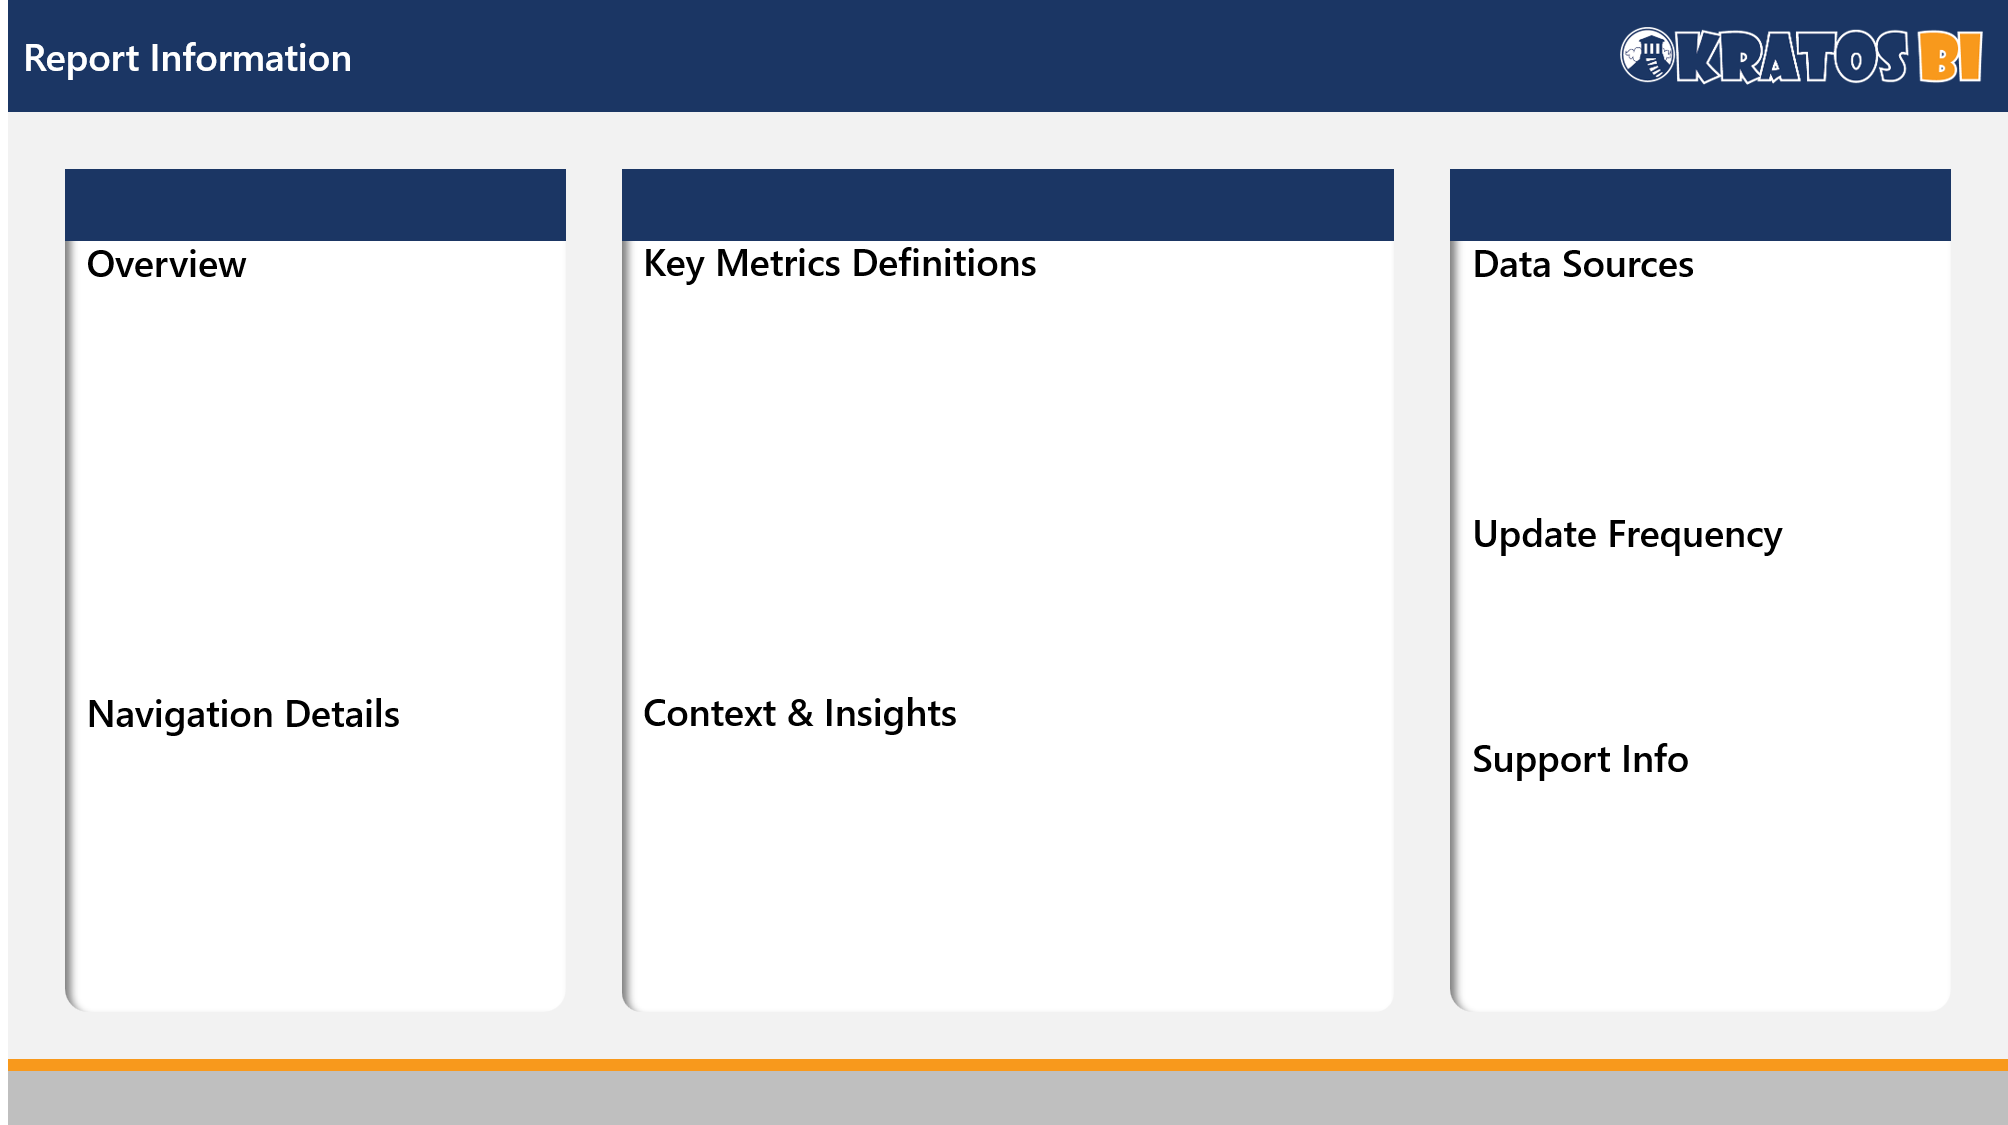

The dashboard page shown, as its layout file describes it:
{"tool":"powerbi","page":{"name":"Info Page","canvas":[1280,720],"ordinal":7},"visuals":[{"type":"textbox","box":[55,191.5,298.6,240.5],"z":0},{"type":"textbox","box":[55,475.7,298.6,158.3],"z":1000},{"type":"textbox","box":[411.6,191.5,468.9,240.5],"z":2000},{"type":"textbox","box":[411.6,475.7,468.9,158.3],"z":3000},{"type":"textbox","box":[937.1,507.4,299.3,126.7],"z":4000},{"type":"textbox","box":[937.1,360.4,299.3,102.5],"z":5000},{"type":"textbox","box":[937.1,191.5,299.3,129.7],"z":6000}]}

Visuals, with their boxes in screenshot pixels (x1, y1, x2, y2), scaled from the page's 1280x720 canvas onto the 2008x1125 screenshot:
textbox: Rect(86, 299, 555, 675)
textbox: Rect(86, 743, 555, 991)
textbox: Rect(646, 299, 1381, 675)
textbox: Rect(646, 743, 1381, 991)
textbox: Rect(1470, 793, 1940, 991)
textbox: Rect(1470, 563, 1940, 723)
textbox: Rect(1470, 299, 1940, 502)
